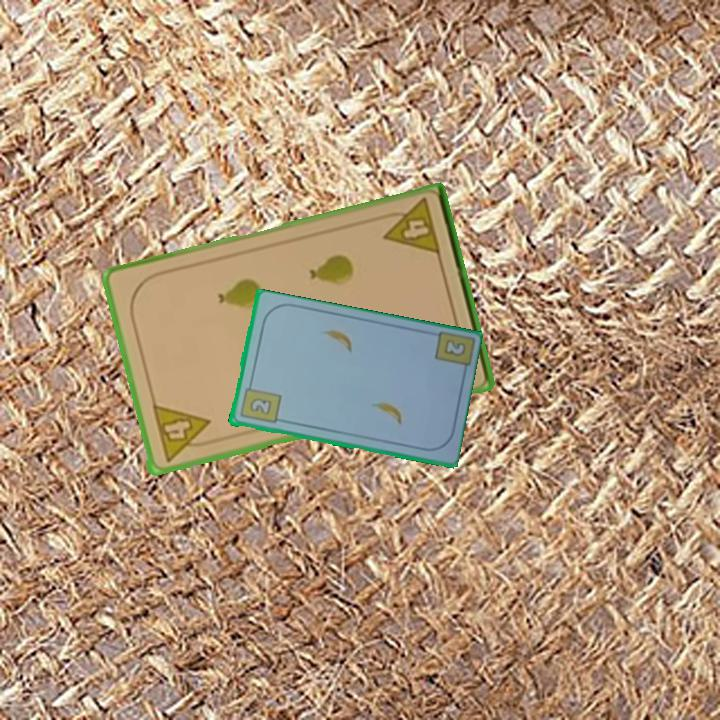2b: (236, 379, 283, 427), (440, 336, 469, 359)
4p: (148, 400, 216, 465), (376, 195, 444, 259)
